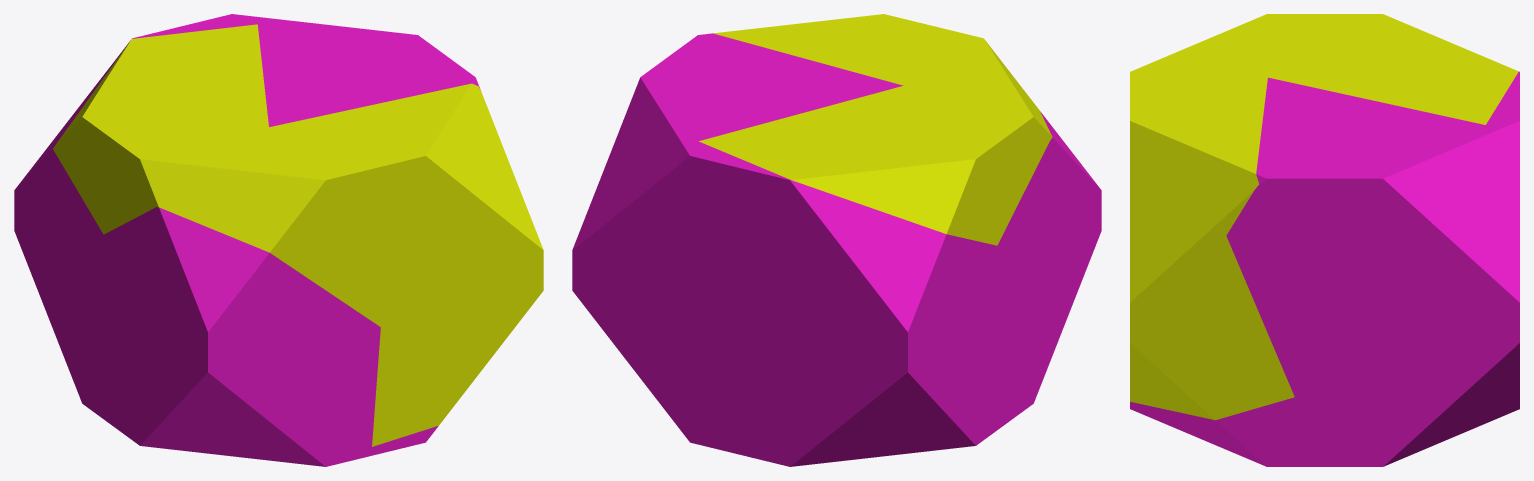
The model's file is sh_generic_c001.fbx.
The picture shows the model from 3 angles, left to right: view 1: azimuth 30°, elevation 25°; view 2: azimuth 150°, elevation 25°; view 3: azimuth 270°, elevation 25°; orthographic projection.
Parts seen in each view (by area): view 1: sh_generic_c.007, sh_generic_c.001, sh_generic_c.009, sh_generic_c.006, sh_generic_c.002, sh_generic_c, sh_generic_c.008, sh_generic_c.004; view 2: sh_generic_c, sh_generic_c.009, sh_generic_c.007, sh_generic_c.003, sh_generic_c.002, sh_generic_c.001, sh_generic_c.008, sh_generic_c.005; view 3: sh_generic_c.008, sh_generic_c.006, sh_generic_c.001, sh_generic_c.009, sh_generic_c.002, sh_generic_c.004, sh_generic_c.003, sh_generic_c.
Boxes of the visible parts, x1,y1,x2,y2 form: sh_generic_c.007: (61,207,380,466); sh_generic_c.001: (156,83,502,326); sh_generic_c.009: (53,24,268,234); sh_generic_c.006: (372,147,543,446); sh_generic_c.002: (257,18,478,126); sh_generic_c: (14,14,268,350); sh_generic_c.008: (347,27,480,89); sh_generic_c.004: (369,425,438,455); sh_generic_c: (645,140,997,438); sh_generic_c.009: (699,85,1051,245); sh_generic_c.007: (931,112,1101,450); sh_generic_c.003: (591,253,785,460); sh_generic_c.002: (659,33,902,150); sh_generic_c.001: (713,14,1052,139); sh_generic_c.008: (572,37,695,314); sh_generic_c.005: (765,387,933,466); sh_generic_c.008: (1226,156,1519,466); sh_generic_c.006: (1130,214,1294,420); sh_generic_c.001: (1130,33,1267,235); sh_generic_c.009: (1222,14,1518,124); sh_generic_c.002: (1256,77,1492,183); sh_generic_c.004: (1130,397,1349,466); sh_generic_c.003: (1372,354,1519,466); sh_generic_c: (1486,71,1519,189).
Size of the model in its own units: 13.54 by 11.05 by 13.54.
